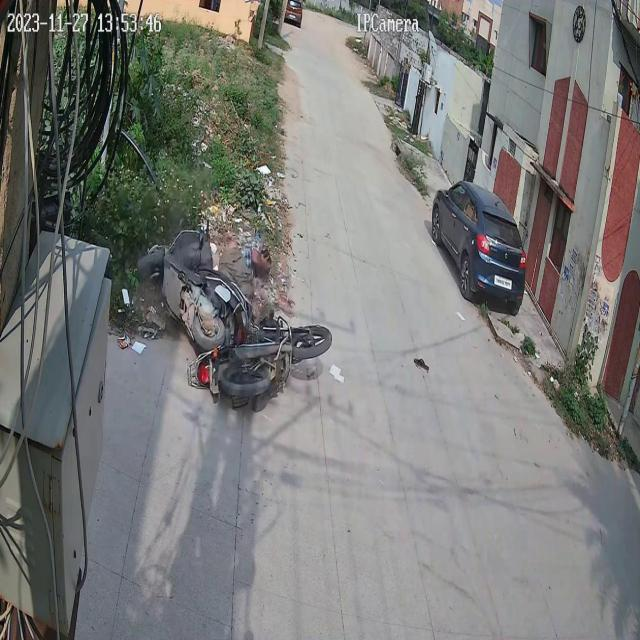accident: (129, 206, 337, 411)
